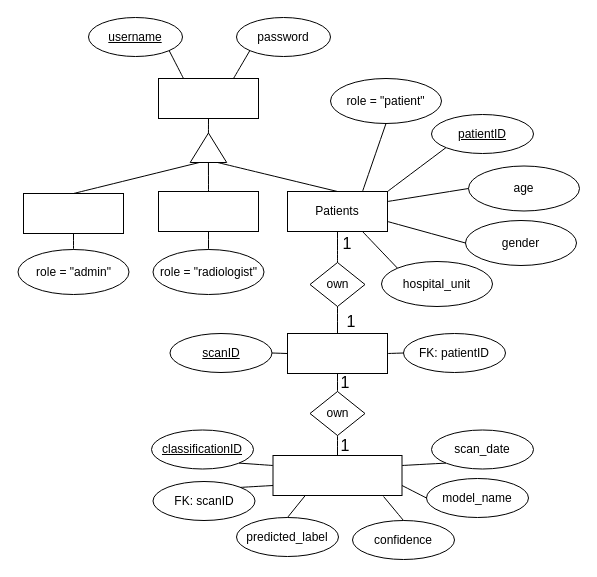
Image size: 597x577. Some labels were removed from this diagram. Here are the shapes that lost their labels. From the top down, the centre of each, then its label:
pixel 208 98: Users
pixel 208 147: isa
pixel 73 213: Admins
pixel 208 211: Radiologists
pixel 337 353: MRI_scans
pixel 337 475: tumor_classification
